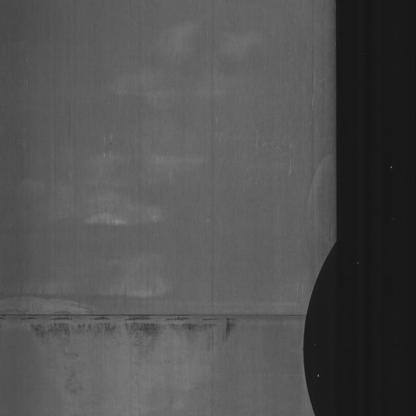welding_line: (0, 303, 319, 327)
